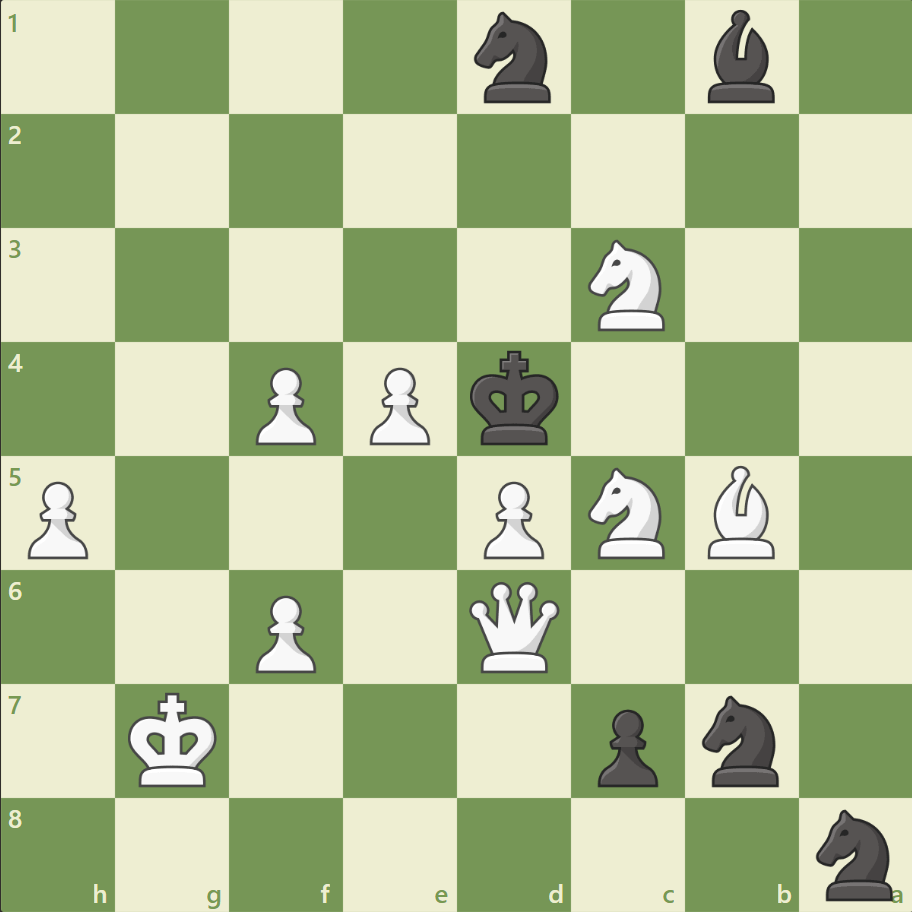B: (698, 460, 782, 563)
K: (124, 685, 224, 793)
N: (579, 461, 676, 564), (579, 234, 676, 337)
P: (247, 586, 322, 677), (474, 473, 549, 564), (20, 473, 95, 564), (247, 359, 322, 450), (361, 359, 435, 450)
Q: (464, 576, 563, 676)
b: (698, 6, 782, 109)
k: (465, 344, 565, 452)
n: (692, 688, 789, 791), (465, 7, 562, 110), (806, 802, 903, 904)
p: (588, 700, 662, 791)
